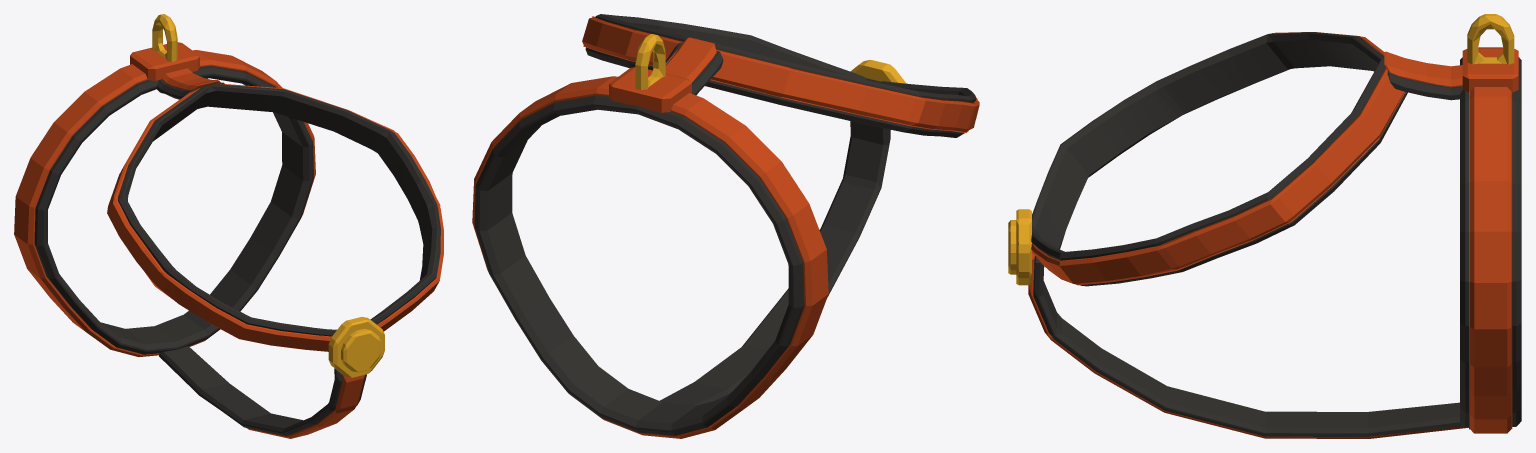
Rendered from LUMI_Harness.fbx.
3 renders of one model, left to right at view 1: azimuth 30°, elevation 25°; view 2: azimuth 150°, elevation 25°; view 3: azimuth 270°, elevation 25°, orthographic. The views are drawn at different scales.
Visible parts, largest first — view 1: HRN_BuckleFace.001; view 2: HRN_BuckleFace.001; view 3: HRN_BuckleFace.001.
Boxes of the visible parts, x1,y1,x2,y2 form: HRN_BuckleFace.001: (14, 14, 443, 438); HRN_BuckleFace.001: (472, 14, 979, 438); HRN_BuckleFace.001: (1008, 14, 1521, 438).
Bounding box in the file's own units: 0.5748 × 0.6524 × 0.7248.
